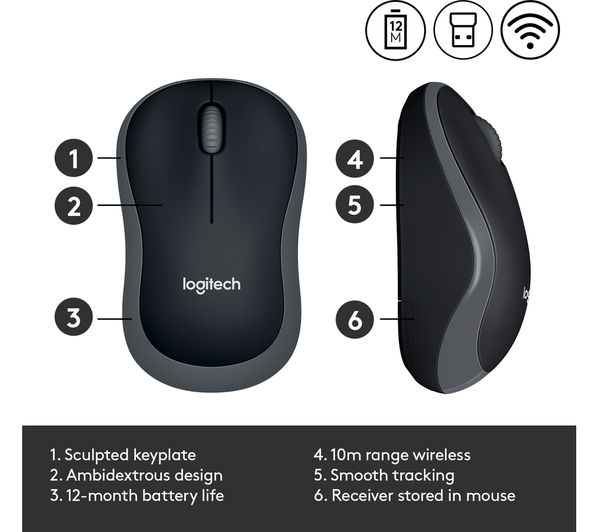logitech-mouse-m185: (113, 78, 315, 395), (393, 82, 534, 396)
